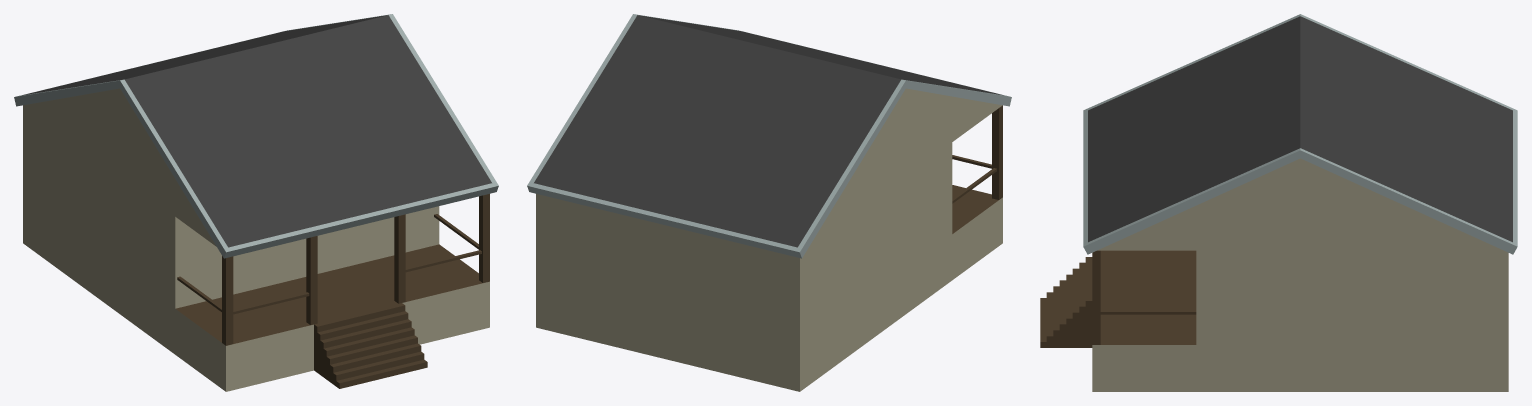
The model's file is PS_House01.fbx.
3 views of the same model, side by side, from view 1: azimuth 30°, elevation 25°; view 2: azimuth 150°, elevation 25°; view 3: azimuth 270°, elevation 25° (orthographic). The views are drawn at different scales.
Parts seen in each view (by area): view 1: PS_House01; view 2: PS_House01; view 3: PS_House01.
Boxes of the visible parts, x1,y1,x2,y2 form: PS_House01: (14,14,498,391); PS_House01: (527,14,1011,391); PS_House01: (1040,14,1517,391).
Bounding box in the file's own units: 6.2 × 5.17 × 9.18.
